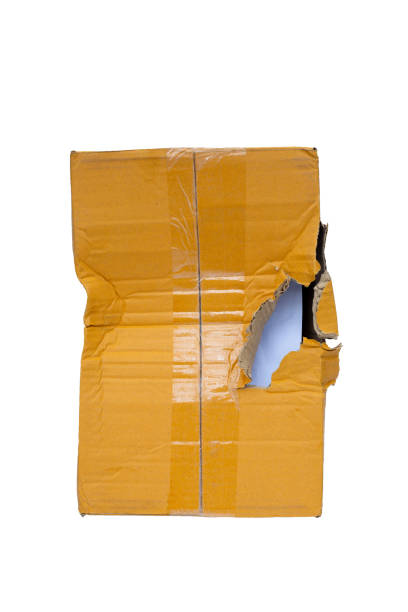damaged package: (228, 213, 354, 417)
